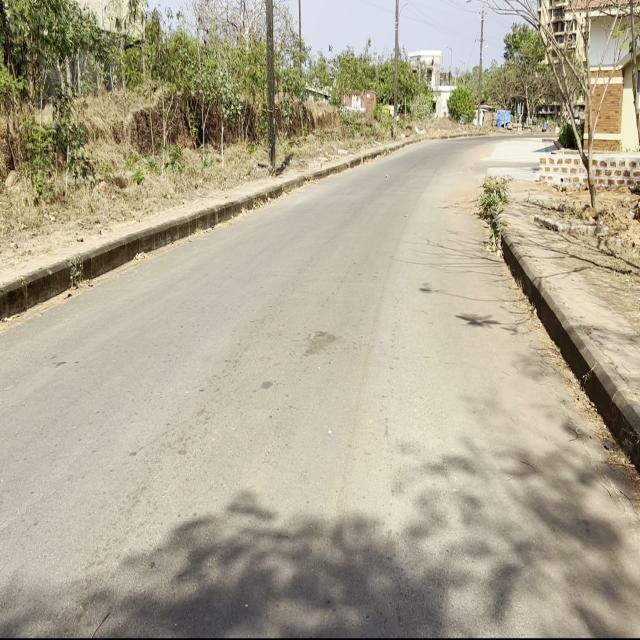Road: (0, 140, 640, 640)
